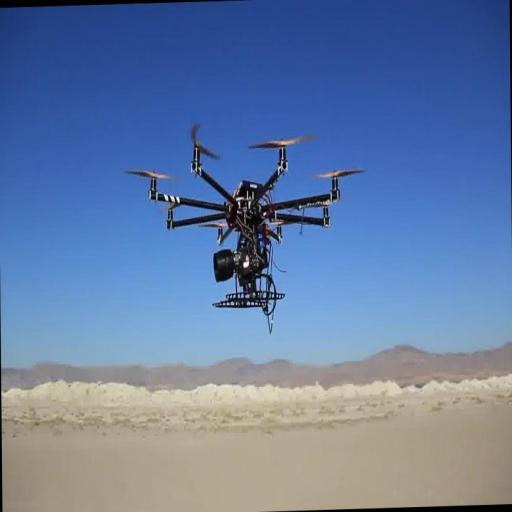drone: (140, 115, 346, 318)
